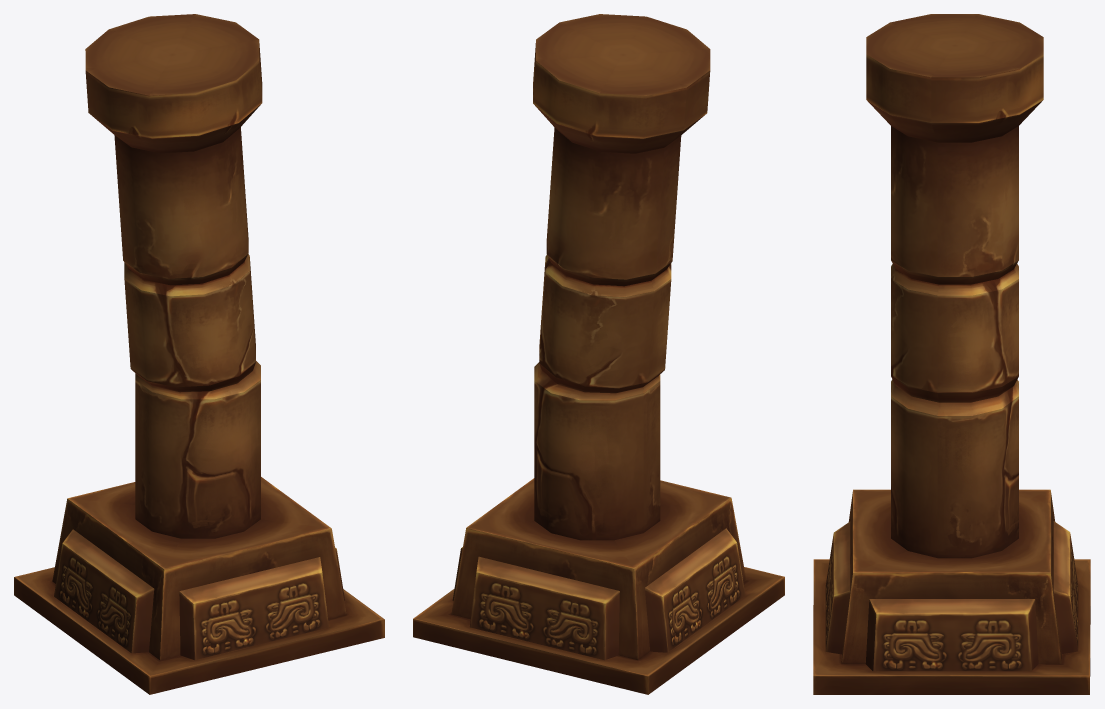
File: 1019_Gidoong.FBX
3 renders of one model, left to right at view 1: azimuth 30°, elevation 25°; view 2: azimuth 150°, elevation 25°; view 3: azimuth 270°, elevation 25°, orthographic.
Visible parts, largest first — view 1: Cylinder001; view 2: Cylinder001; view 3: Cylinder001.
Part boxes in pixels (x1,y1,x2,y2): Cylinder001: (14,14,384,694); Cylinder001: (413,14,784,694); Cylinder001: (813,14,1090,694).
Size of the model in its own units: 130 by 301 by 130.
